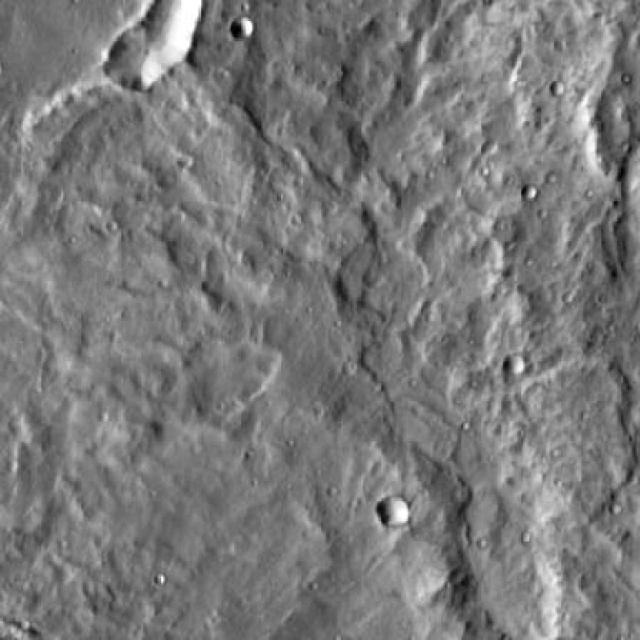crater: (81, 0, 214, 83), (336, 245, 429, 337), (376, 493, 412, 529), (506, 353, 528, 376), (234, 17, 254, 37)
